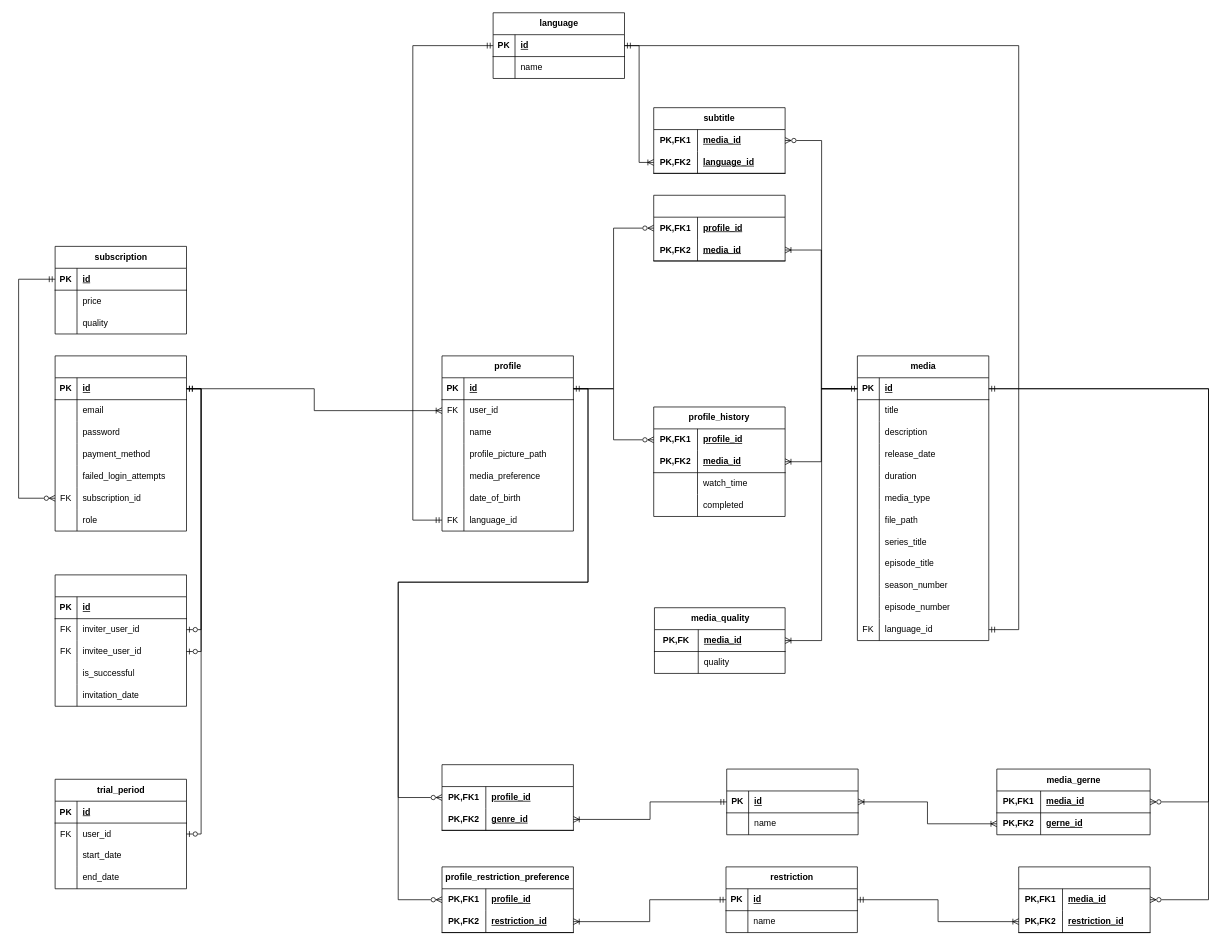
Image size: 1228x945. Some labels were removed from this diagram. The shapes that lost their labels are listed below. From the top down, each one's box as (x1, y1, x2, y2) in pixels, then its label:
(653, 195, 785, 261): watchlist
(54, 355, 187, 531): user
(54, 574, 187, 706): user_invitation
(441, 764, 573, 830): profile_genre_preference
(726, 768, 858, 835): gerne
(1018, 866, 1150, 933): media_restriction
